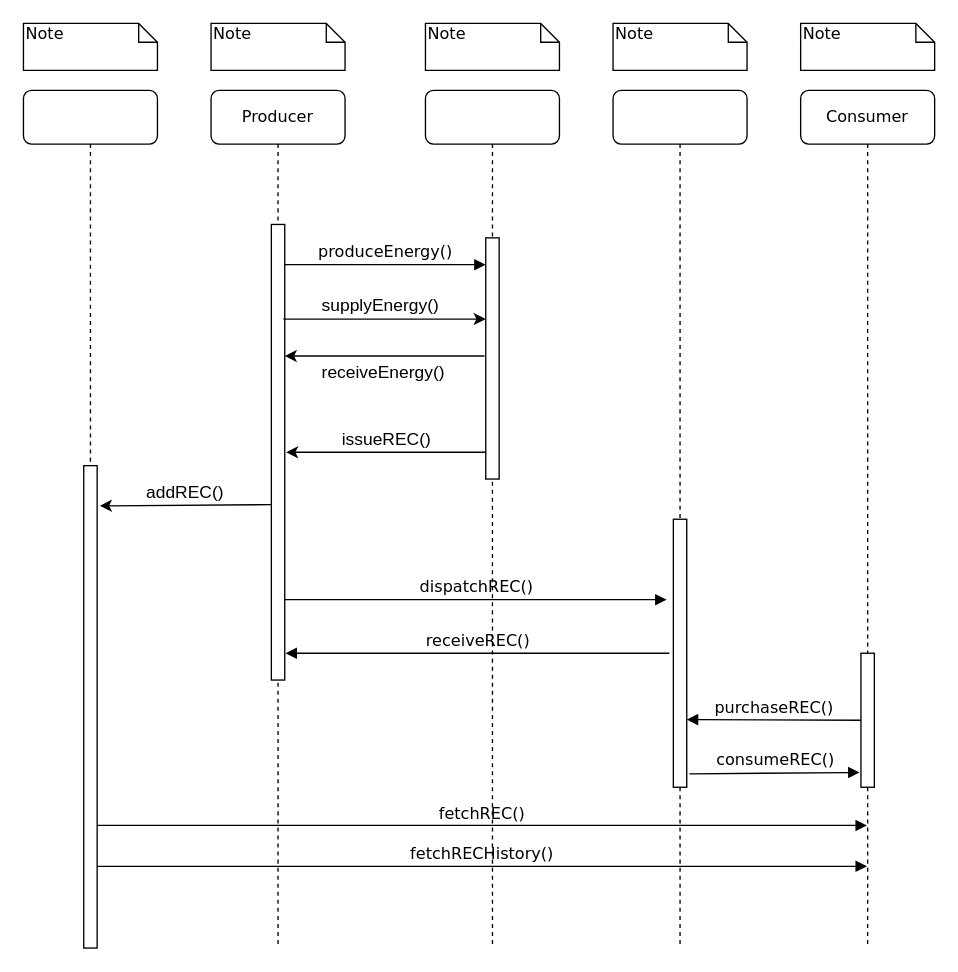
The diagram is 958 pixels wide and 972 high, and some of its shapes have lost their labels. Here are the shapes that lost their labels. From the top down, the box of each, then its label:
(22, 89, 157, 948): Certificate
(424, 89, 559, 948): Grid
(612, 89, 747, 948): Utility
